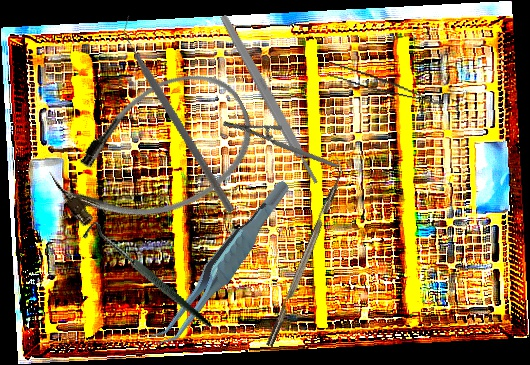Cannula: (35, 51, 274, 257)
Chopper: (68, 13, 292, 215), (257, 156, 351, 348)
Hook Surgical: (78, 195, 213, 360)
Needle Holder: (220, 90, 340, 200)
Scalpel Handle: (218, 13, 321, 186)
Tissue Forceps: (124, 178, 320, 352), (326, 62, 447, 106)
